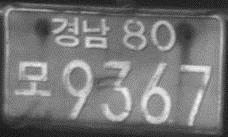0: (150, 19, 176, 52)
3: (98, 59, 133, 123)
6: (139, 62, 173, 124)
7: (177, 62, 213, 127)
8: (121, 17, 148, 52)
9: (60, 57, 94, 120)
경남_O: (49, 16, 112, 50)
모: (13, 59, 52, 98)
